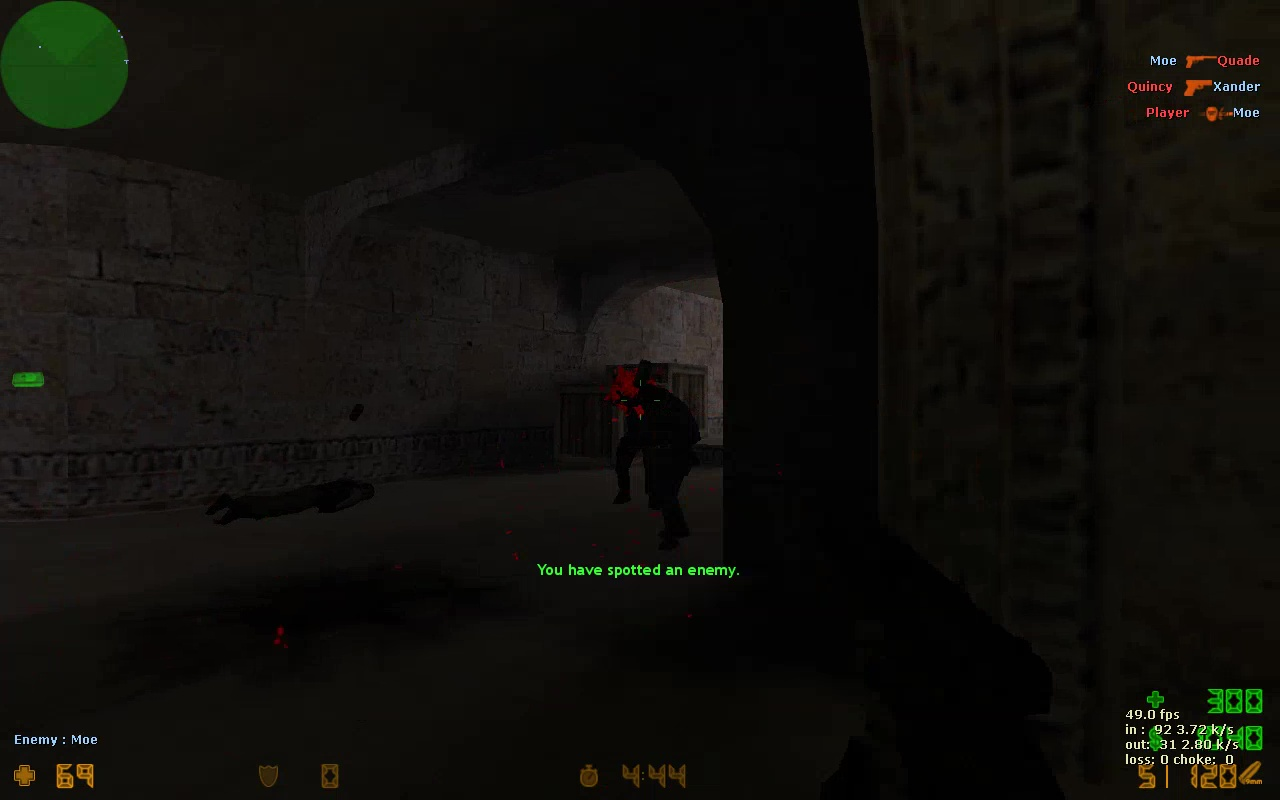ct: (614, 372, 703, 556)
dead: (208, 478, 373, 528)
